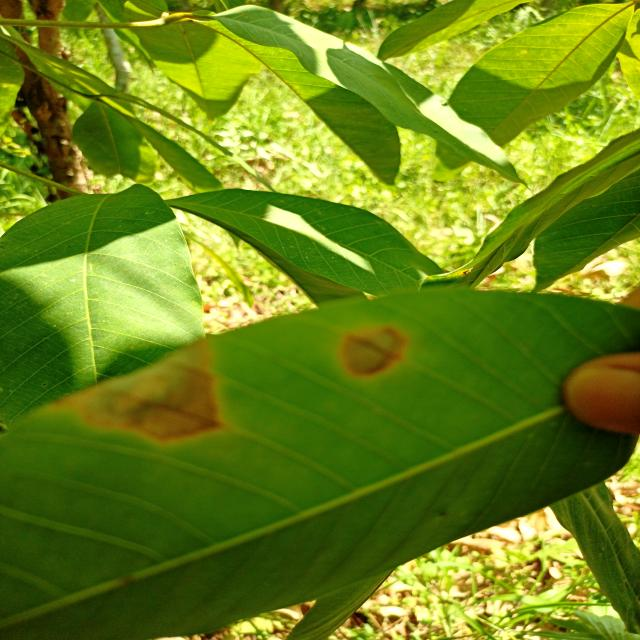Leaf-Blight: (46, 338, 226, 444), (339, 326, 405, 378)
